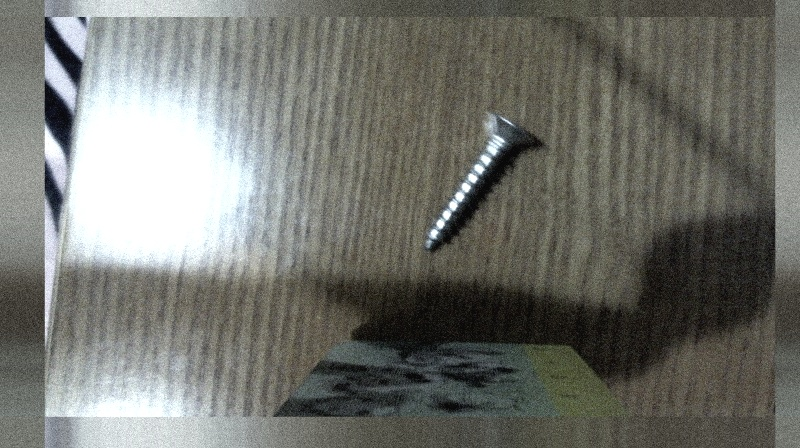S001: (420, 104, 549, 258)
